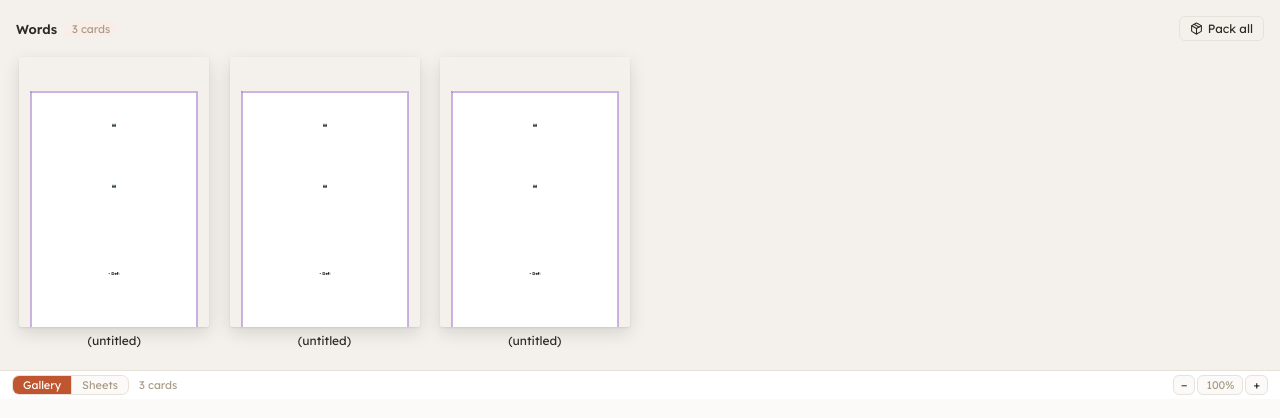
Test case: CardGallery — packed cards › Pack all creates persisted cards and excludes those records from the auto section
Click the button "Pack all" at {"x": 1221, "y": 28}, box top-left (1179, 16), bottom-right (1264, 41)
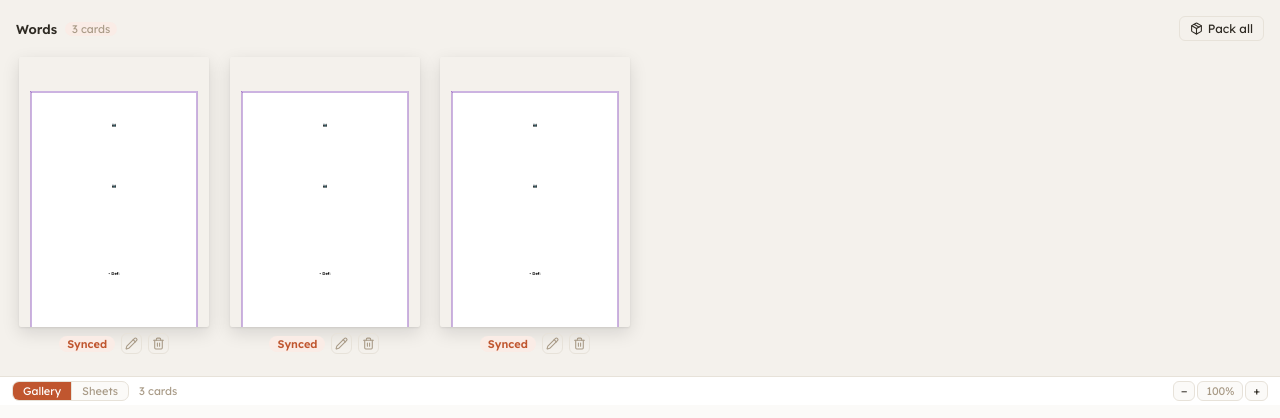
Now the number of elements with class "thumb" is 3, box top-left (16, 51), bottom-right (212, 360); top-left (226, 51), bottom-right (423, 360); top-left (437, 51), bottom-right (633, 360)
